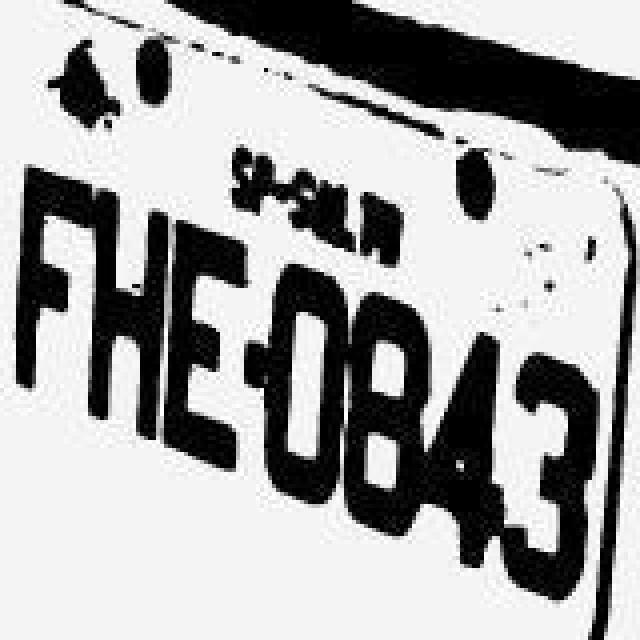3: (498, 314, 598, 598)
4: (422, 302, 506, 578)
8: (344, 280, 432, 544)
E: (160, 214, 248, 474)
F: (14, 164, 98, 396)
H: (88, 192, 168, 448)
O: (266, 254, 350, 514)
